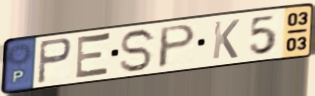5: (247, 12, 280, 57)
E: (73, 31, 114, 81)
K: (211, 17, 242, 61)
P: (155, 22, 199, 71), (35, 36, 74, 86)
S: (119, 27, 159, 74)
